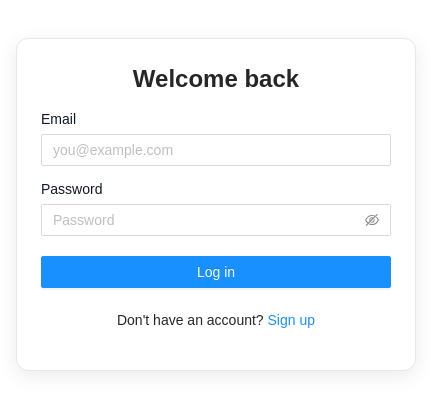
test Login component › test show validation error on empty email and empty password
Click the field with placeholder "you@example.com": (216,150) x1=41 y1=134 x2=391 y2=166
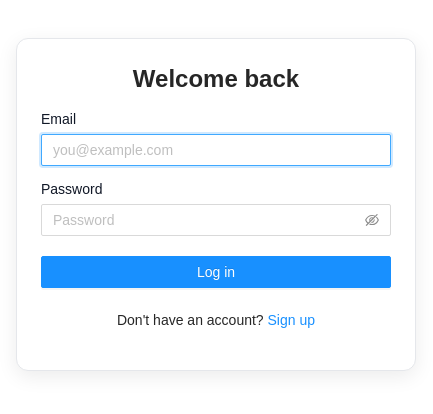
Click the password field with placeholder "Password": (207,220) x1=53 y1=208 x2=361 y2=230
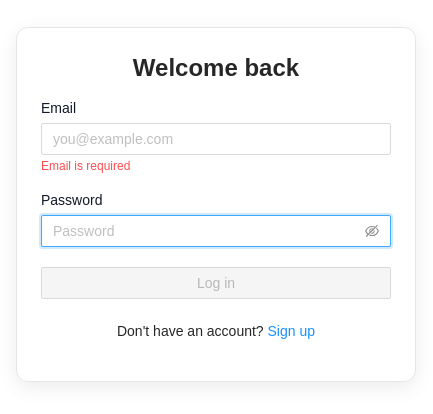
Result: the text "Email is required" is shown at x1=41 y1=158 x2=130 y2=172
Click the field with placeholder "you@example.com": (216,138) x1=41 y1=122 x2=391 y2=154
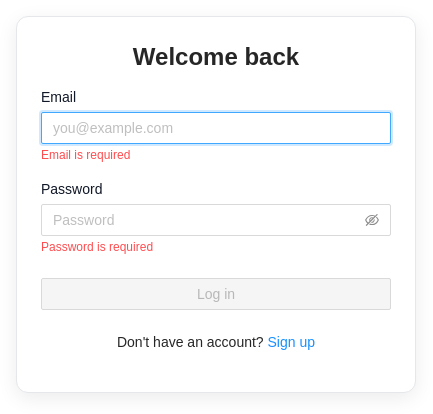
Result: the text "Password is required" is shown at x1=41 y1=240 x2=153 y2=254
